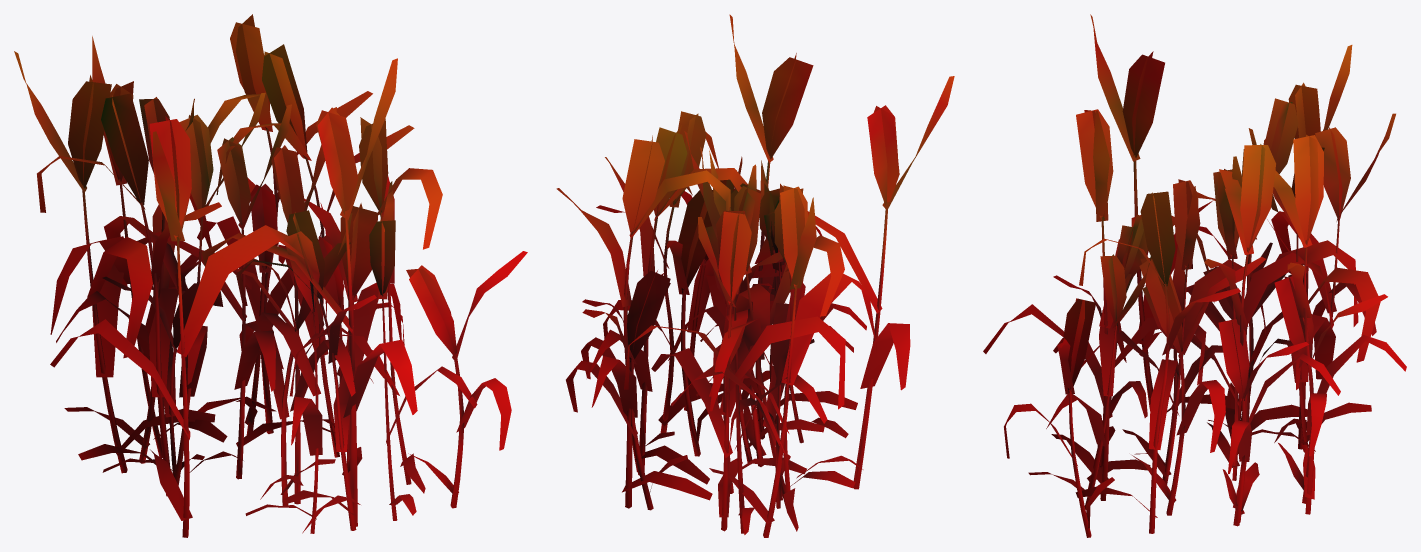
The model's file is SM_Barley_3.fbx.
3 views of the same model, side by side, from view 1: azimuth 30°, elevation 25°; view 2: azimuth 150°, elevation 25°; view 3: azimuth 270°, elevation 25° (orthographic). The views are drawn at different scales.
Parts seen in each view (by area): view 1: SM_Barley_3; view 2: SM_Barley_3; view 3: SM_Barley_3.
Part boxes in pixels (x1,y1,x2,y2): SM_Barley_3: [14, 14, 527, 537]; SM_Barley_3: [556, 14, 954, 537]; SM_Barley_3: [983, 14, 1406, 537].
Size of the model in its own units: 1.71 by 1.96 by 1.86.
